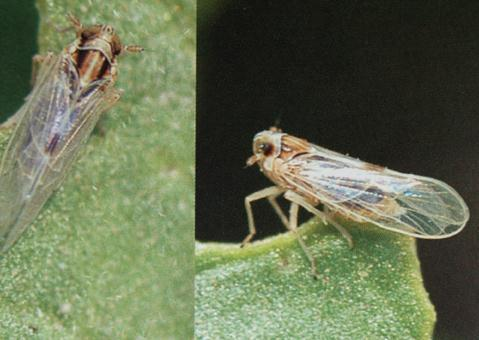Delphacidae: (1, 10, 158, 256), (239, 116, 470, 281)
